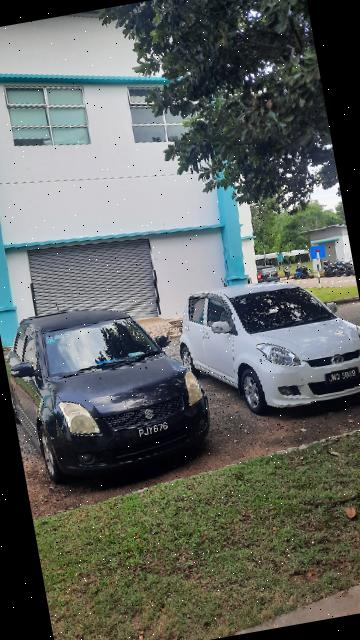License_Plate: (324, 366, 360, 384), (137, 421, 171, 439)
car: (1, 288, 218, 486), (176, 263, 360, 426)
